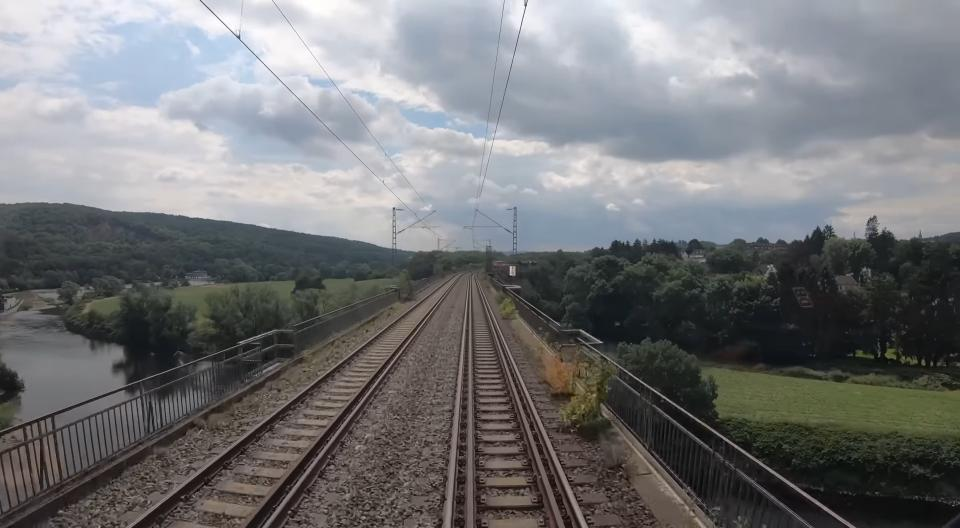Plant: (511, 317, 582, 398), (560, 365, 611, 439), (600, 428, 628, 469), (398, 270, 416, 302), (496, 293, 518, 319)
